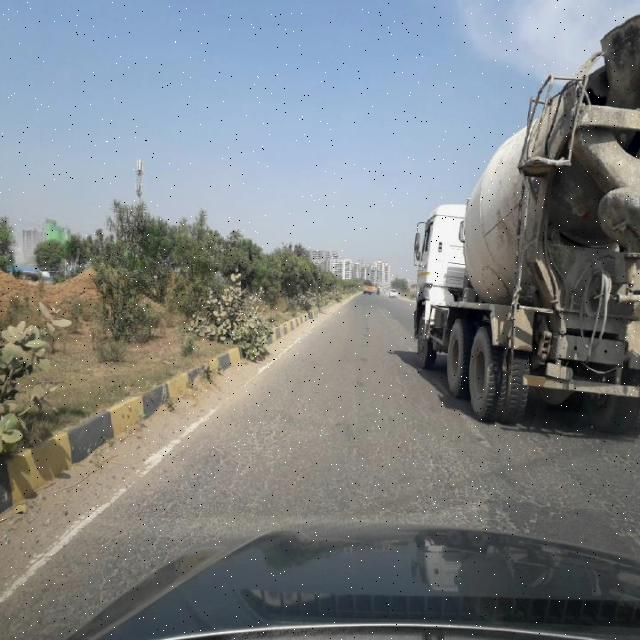D20: (102, 417, 636, 507)
